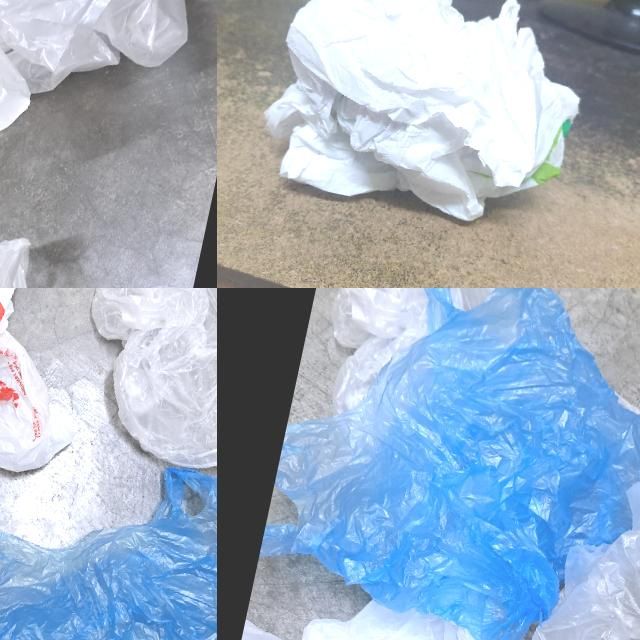sacola plástica: (249, 288, 640, 640), (247, 0, 605, 242), (0, 418, 217, 640), (0, 0, 206, 197), (308, 288, 529, 458), (460, 449, 640, 640), (58, 288, 217, 482), (217, 558, 571, 640), (0, 288, 131, 486)
